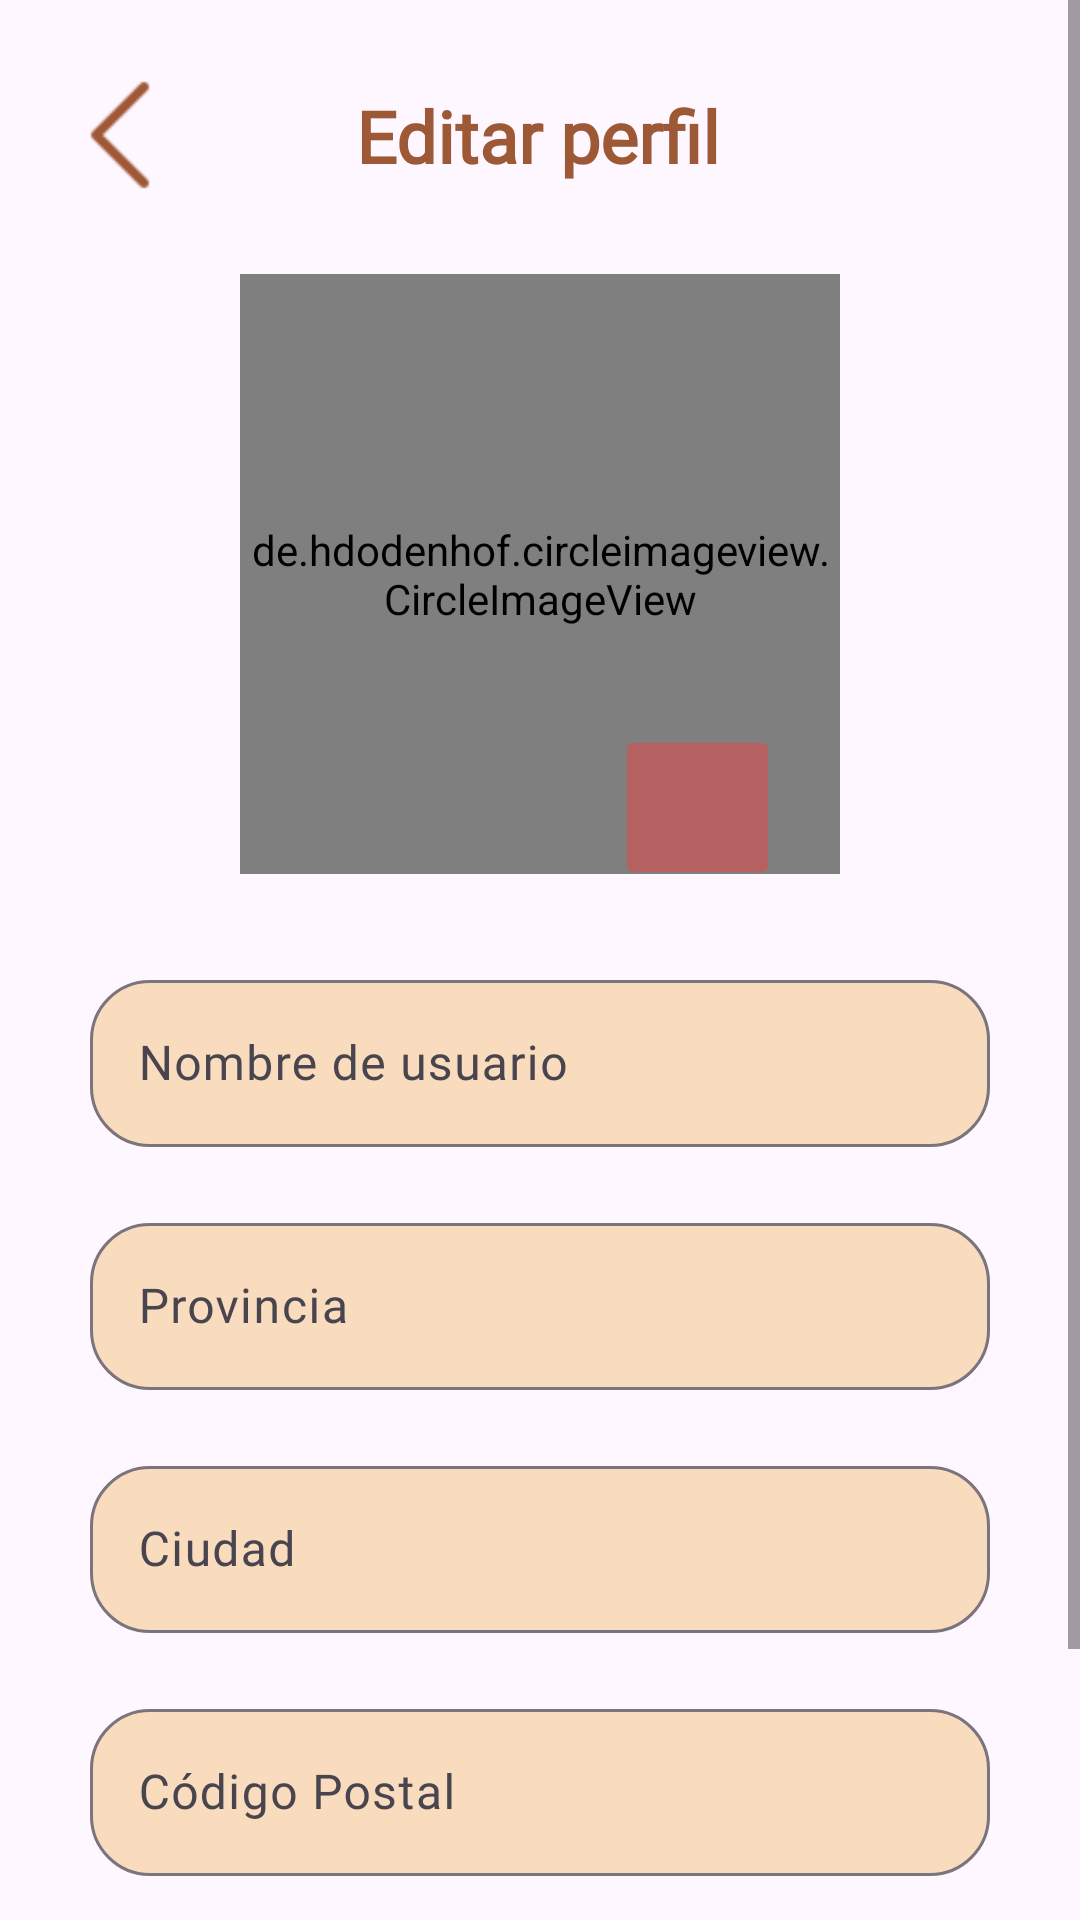

Icons on this 1080*1920 Android screen, each with its box as (x1,y1,x2,y2):
backk: (90,81,150,189)
